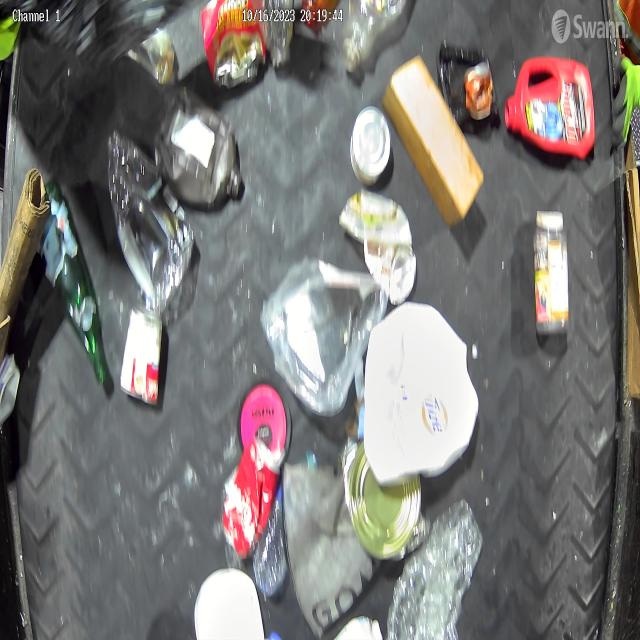can: (341, 440, 426, 560), (215, 440, 286, 563), (195, 0, 268, 83), (118, 304, 164, 406), (344, 104, 396, 185)
milk_jug: (365, 298, 480, 488), (190, 562, 262, 640)
non_white_jug: (502, 58, 600, 173)
plastic_bottle: (391, 505, 486, 640), (251, 441, 316, 598)
